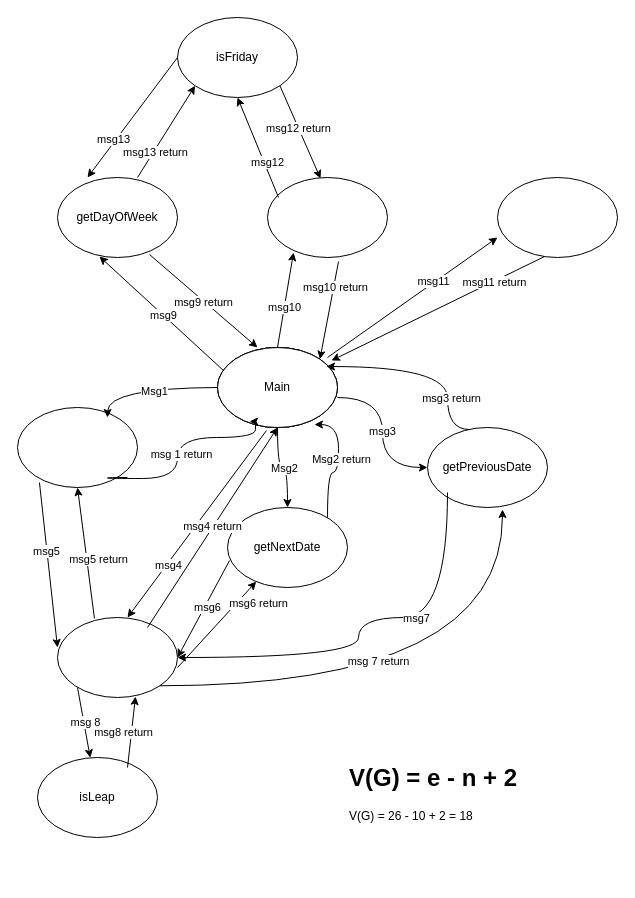
This 635x898 diagram has some shape labels left out. Here are the shapes that lost their labels. From the top down, the box of each, then its label:
(266, 176, 388, 258): friday13
(496, 176, 618, 258): getZodiacSign
(16, 406, 138, 488): ! isValidDate
(56, 616, 178, 698): lastDayOfMonth
